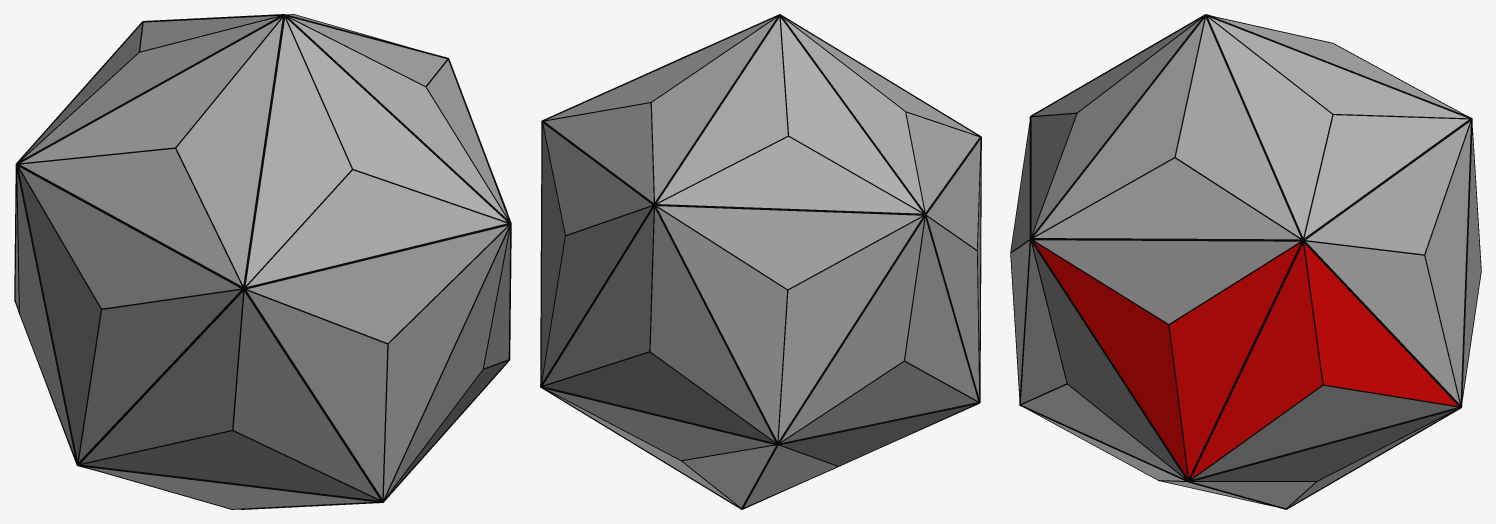
File: TriakisIcosahedron2.glb
3 renders of one model, left to right at view 1: azimuth 30°, elevation 25°; view 2: azimuth 150°, elevation 25°; view 3: azimuth 270°, elevation 25°, orthographic. The views are drawn at different scales.
Bounding box in the file's own units: 5.88 × 6.84 × 5.89.
